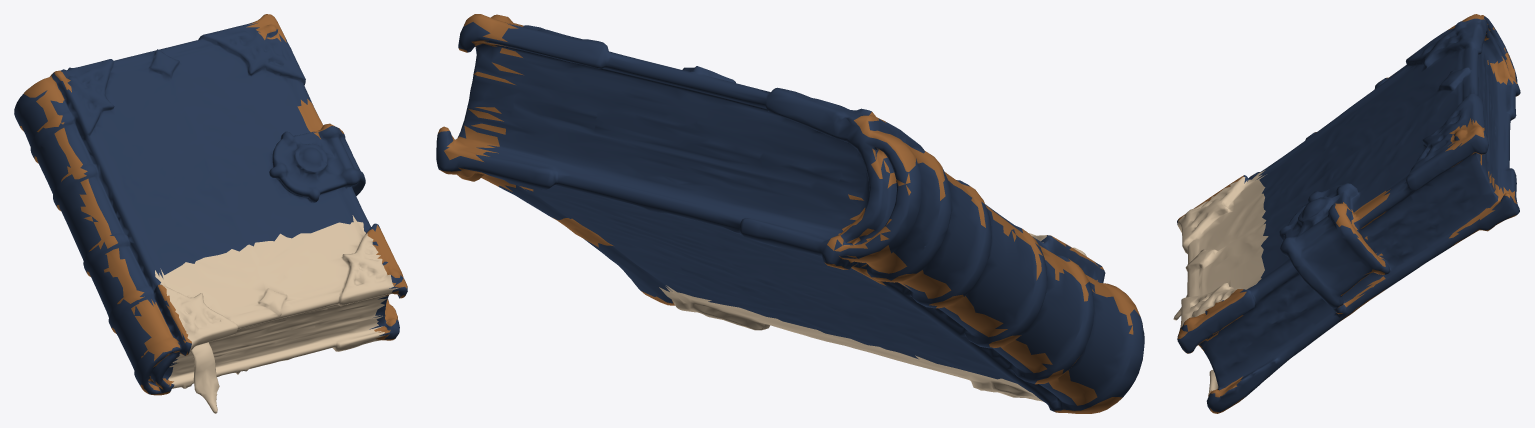
Rendered from grimorio.glb.
3 renders of one model, left to right at view 1: azimuth 30°, elevation 25°; view 2: azimuth 150°, elevation 25°; view 3: azimuth 270°, elevation 25°, orthographic. The views are drawn at different scales.
Parts seen in each view (by area): view 1: tmphy8amy86.ply; view 2: tmphy8amy86.ply; view 3: tmphy8amy86.ply.
Part boxes in pixels (left/top/right/bottom): tmphy8amy86.ply: left=14, top=14, right=407, bottom=413; tmphy8amy86.ply: left=436, top=14, right=1144, bottom=413; tmphy8amy86.ply: left=1173, top=14, right=1520, bottom=413.
Bounding box in the file's own units: 1.96 × 1.83 × 1.94.
